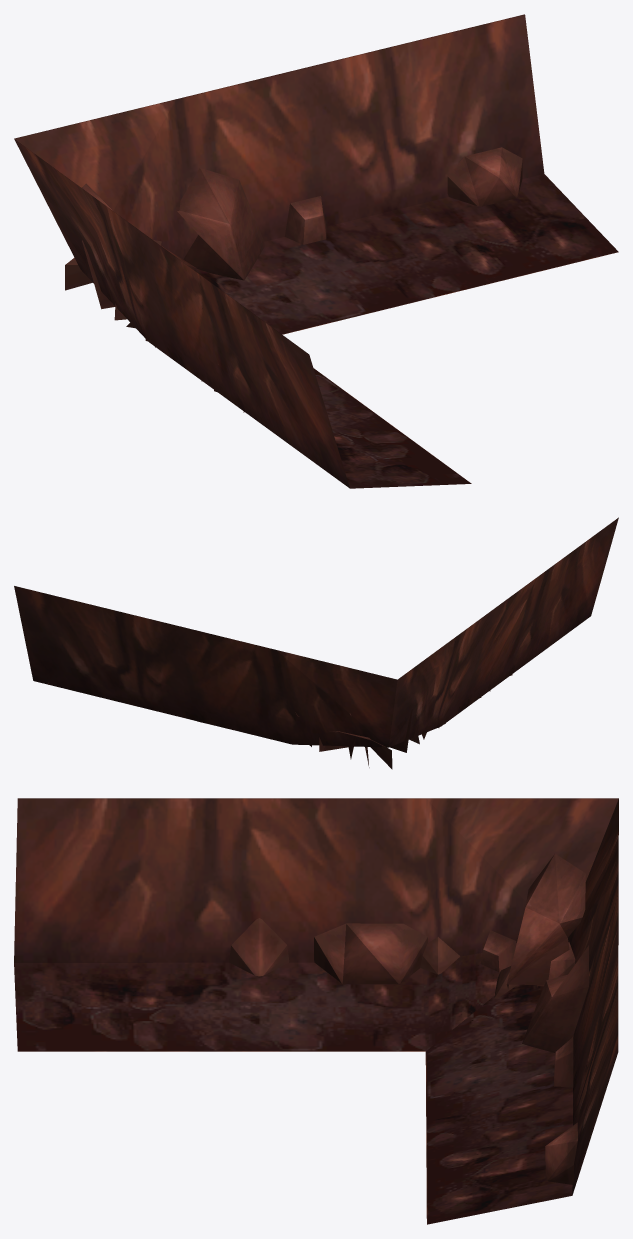
Rendered from lava_trim_concave_01.fbx.
3 renders of one model, top to bottom at view 1: azimuth 30°, elevation 25°; view 2: azimuth 150°, elevation 25°; view 3: azimuth 270°, elevation 25°, orthographic. The views are drawn at different scales.
Visible parts, largest first — view 1: obj1.023; view 2: obj1.023; view 3: obj1.023.
Boxes of the visible parts, x1,y1,x2,y2 form: obj1.023: [14, 14, 618, 488]; obj1.023: [14, 517, 618, 769]; obj1.023: [14, 798, 618, 1224].
Size of the model in its own units: 3.62 by 1.15 by 3.65.
